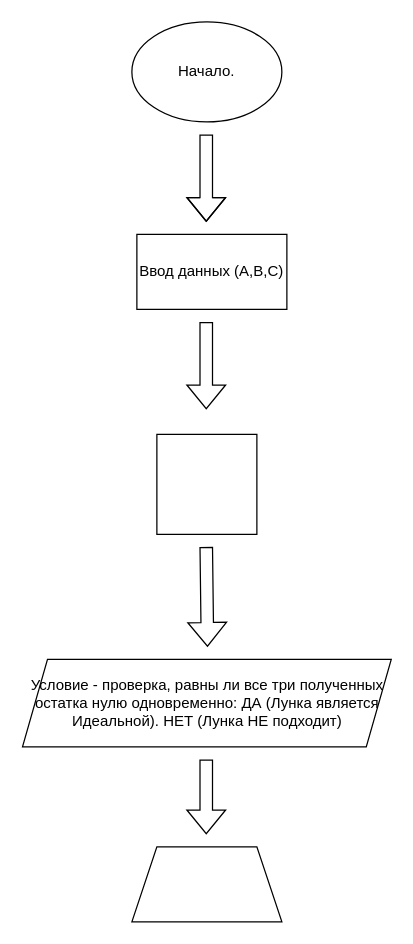
Some shapes in this 413 by 944 pixel diagram are drawn without their labels. Each missing label, with the centre of its shape:
Вычисление остатков (%3): (206,483)
Конец.: (206,884)
